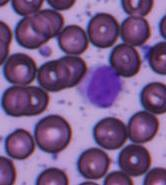L: (78, 64, 125, 108)
